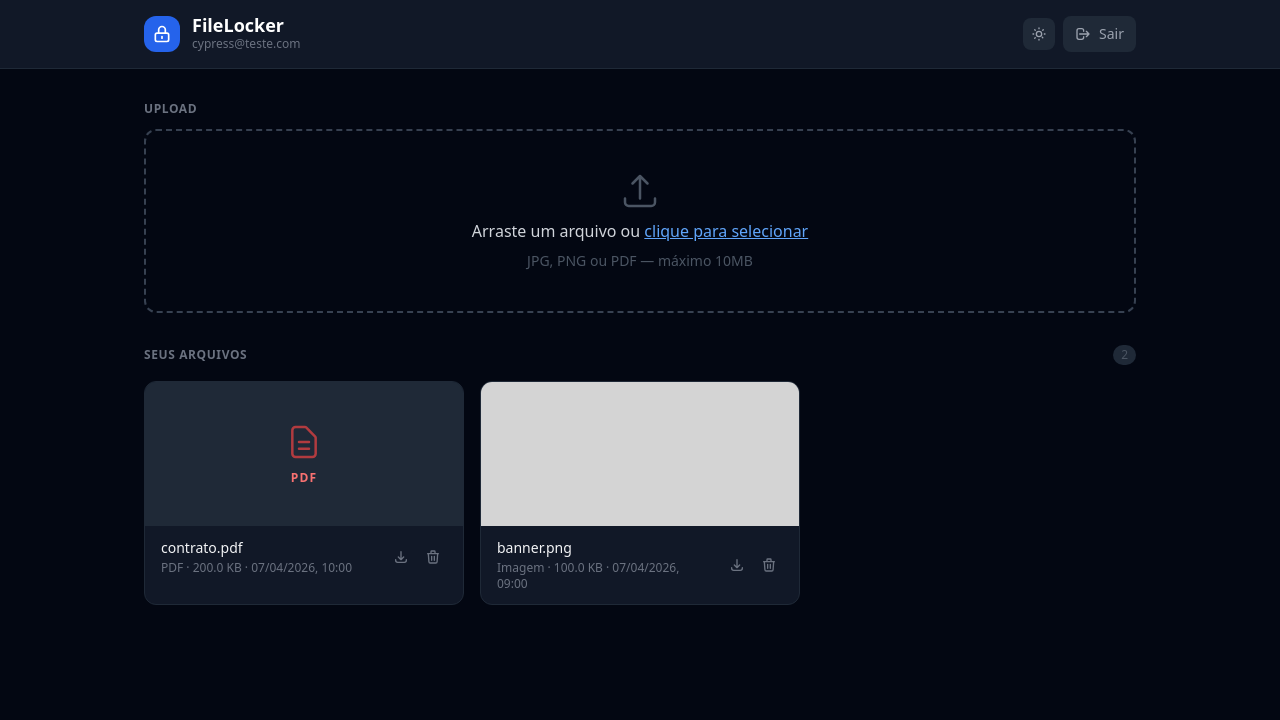
Test case: Preview de Arquivos › should open preview modal when clicking a PDF file
This screenshot has width=1280, height=720.
Click the element with test id "file-card-select" showing "PDF". click: click(304, 454)
box: x1=145 y1=382 x2=463 y2=526
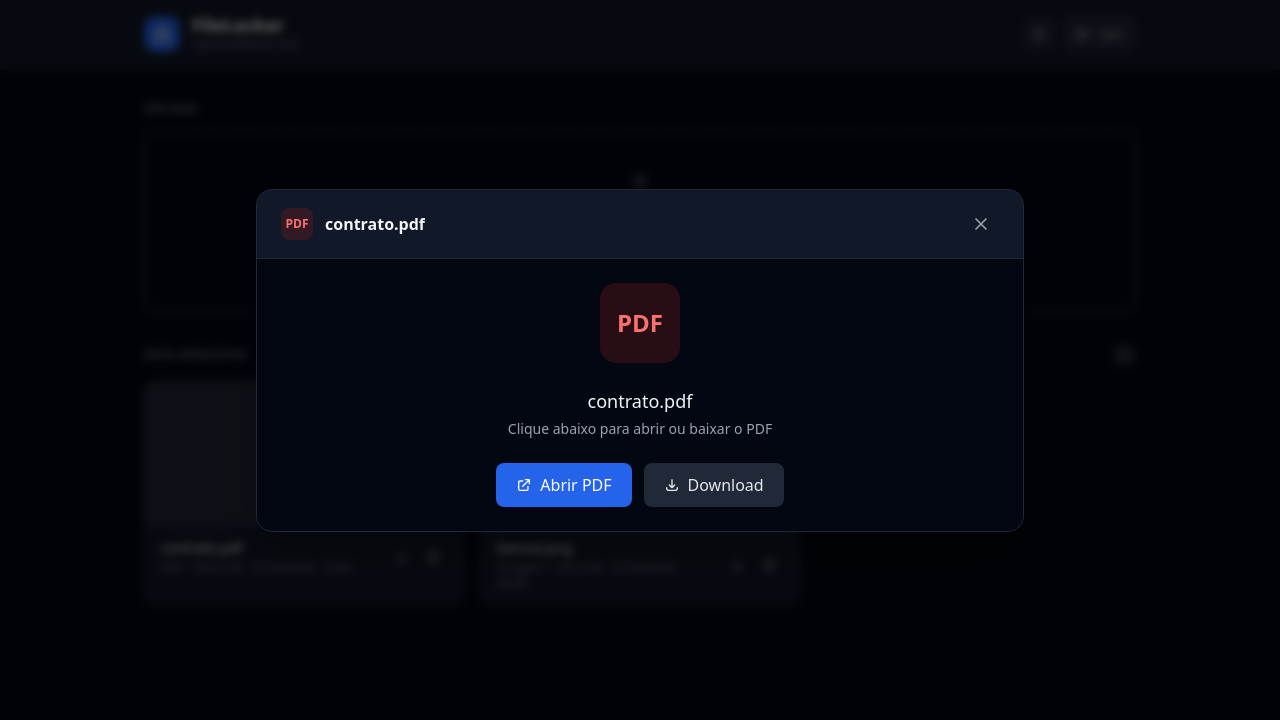
Result: the element with test id "preview-modal" is shown
